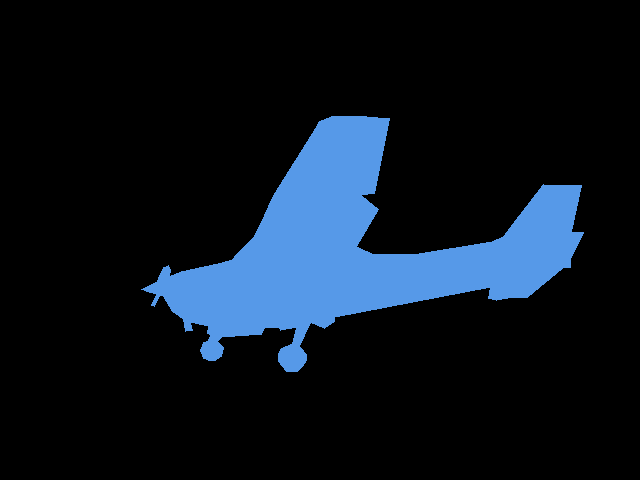Airplane: (141, 116, 584, 371)
